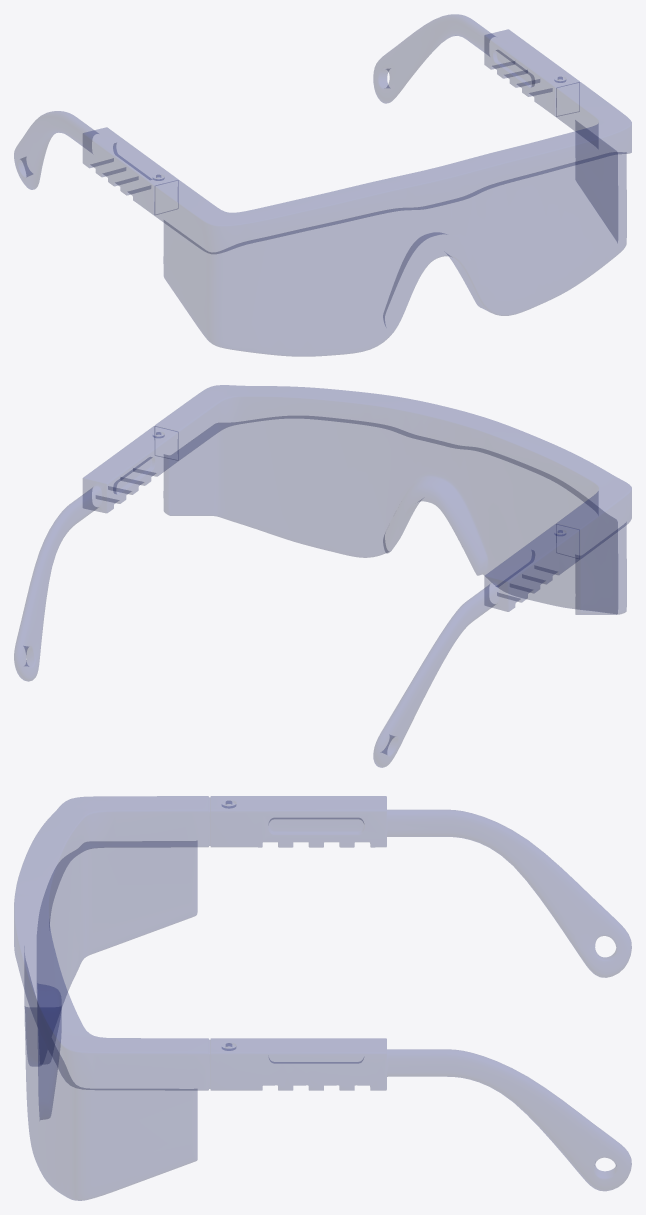
File: Glass.glb
3 views of the same model, one above another, from view 1: azimuth 30°, elevation 25°; view 2: azimuth 150°, elevation 25°; view 3: azimuth 270°, elevation 25° (orthographic). The views are drawn at different scales.
Visible parts, largest first — view 1: 16616_Safety_Glasses_v1; view 2: 16616_Safety_Glasses_v1; view 3: 16616_Safety_Glasses_v1.
Boxes of the visible parts, x1,y1,x2,y2 form: 16616_Safety_Glasses_v1: [14, 14, 631, 356]; 16616_Safety_Glasses_v1: [14, 385, 631, 767]; 16616_Safety_Glasses_v1: [14, 796, 631, 1200].
Bounding box in the file's own units: 16.05 × 5.79 × 16.28.
